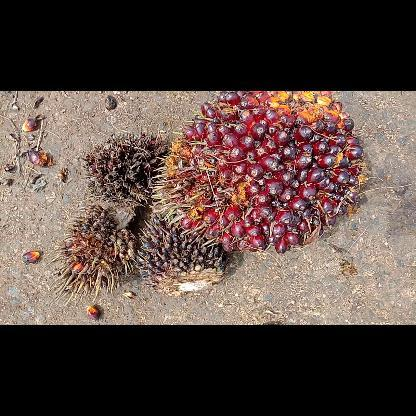TBS abnormal: (42, 206, 134, 302), (131, 211, 227, 295), (78, 130, 170, 209)
TBS masak: (151, 91, 373, 257)
